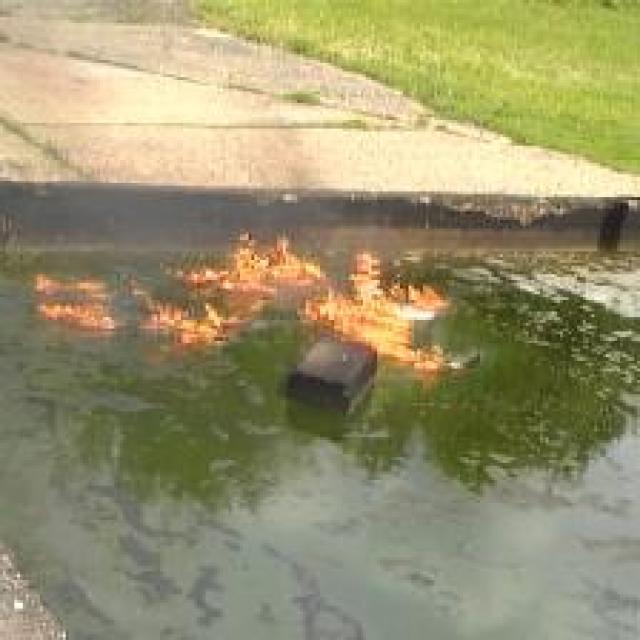Fire: (299, 250, 467, 373), (162, 229, 324, 297), (130, 280, 267, 348), (36, 274, 116, 332)
